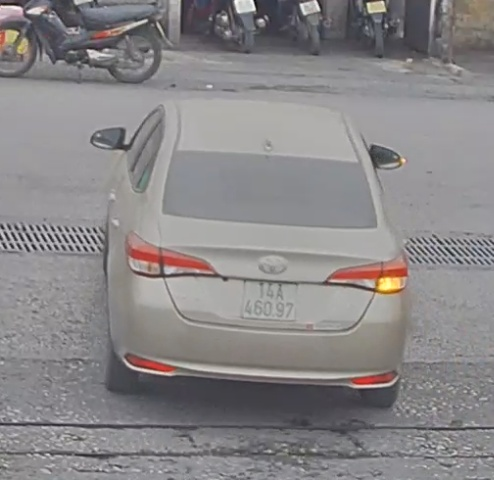vehicle plate: (239, 271, 294, 323)
